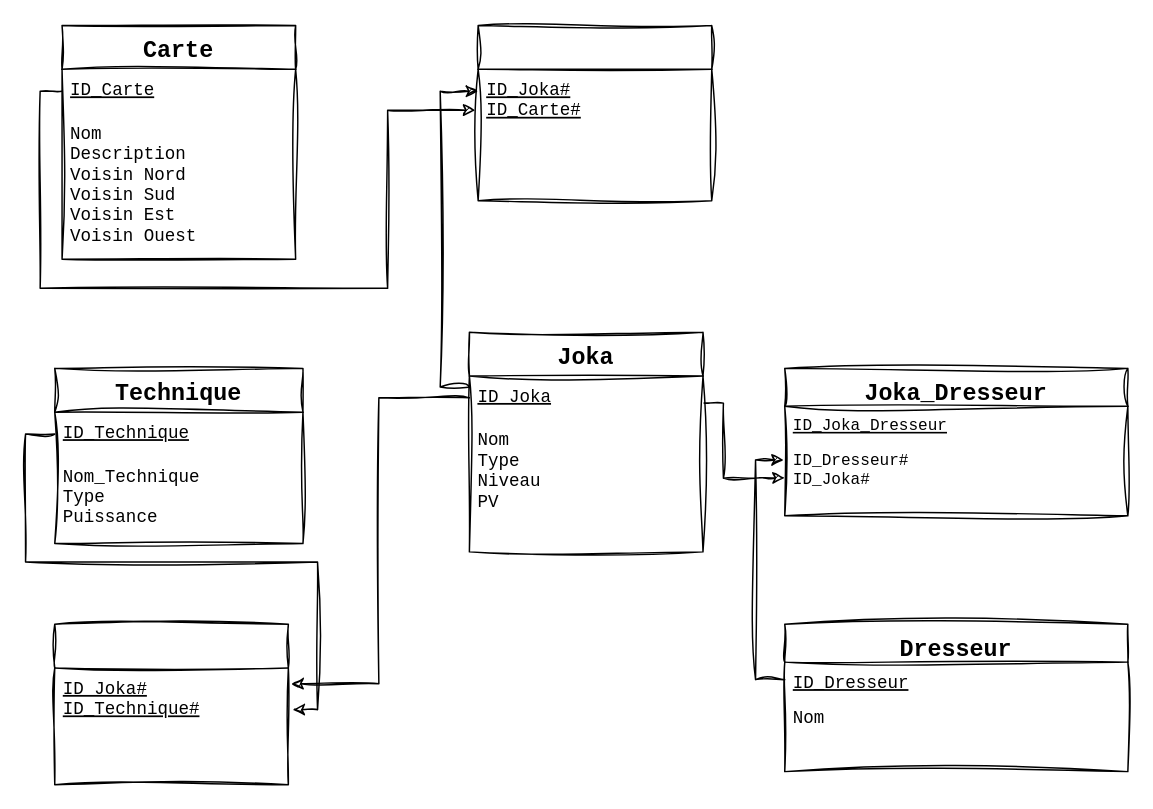
The diagram is 1153 pixels wide and 809 high, and some of its shapes have lost their labels. Each missing label, with the box of its shape:
Apparition: (477, 24, 712, 201)
Joka_Technique: (53, 623, 288, 785)
